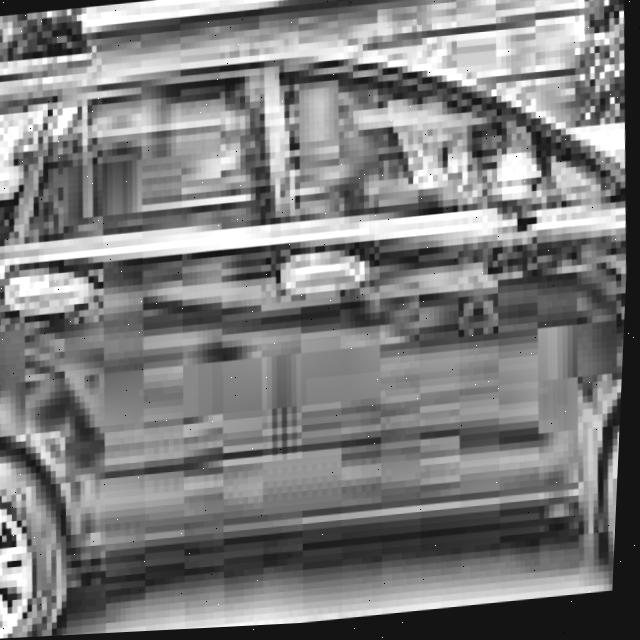light_vehicle: (0, 17, 638, 640)
